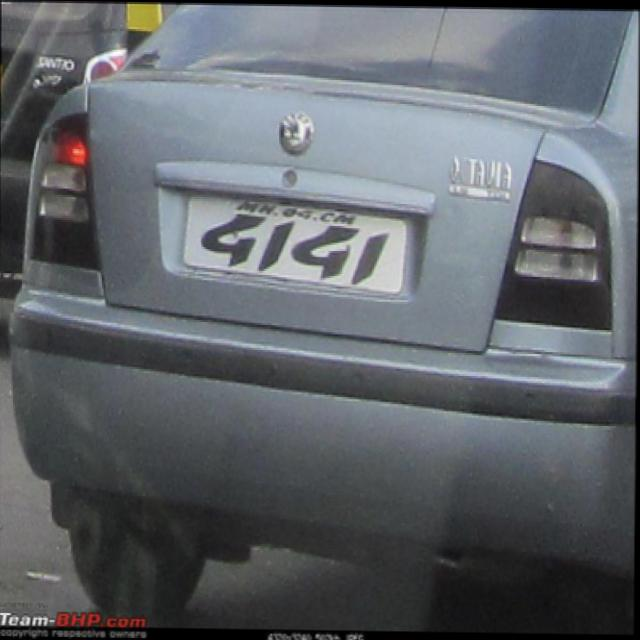licence: (186, 192, 404, 288)
